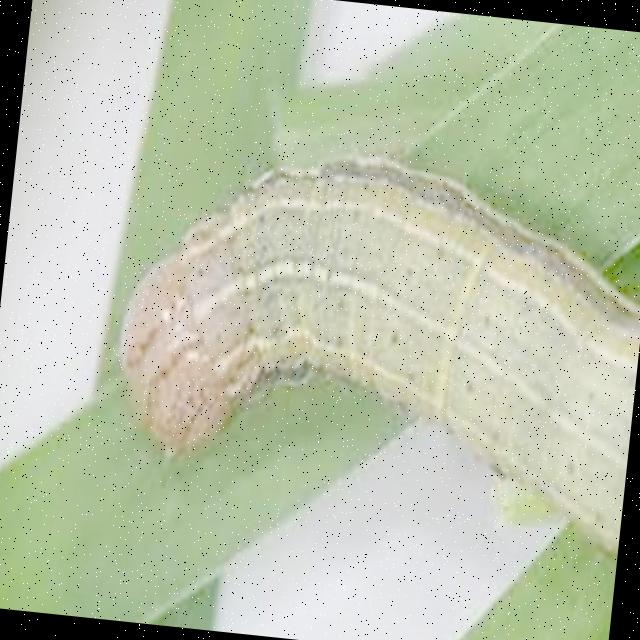worm: (100, 129, 640, 558)
